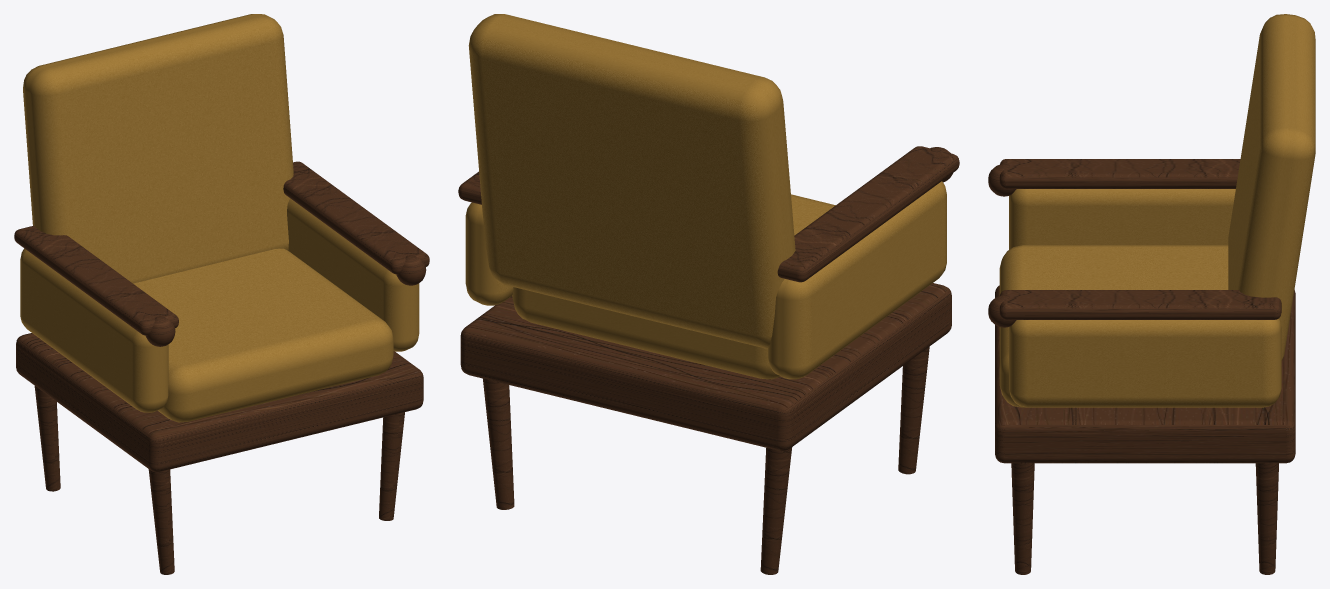
Rendered from poltrona-bergere-veludo-mostarda.glb.
3 renders of one model, left to right at view 1: azimuth 30°, elevation 25°; view 2: azimuth 150°, elevation 25°; view 3: azimuth 270°, elevation 25°, orthographic. The views are drawn at different scales.
Visible parts, largest first — view 1: armchair; view 2: armchair; view 3: armchair.
Part boxes in pixels (x1=…): armchair: x1=14, y1=14, x2=429, y2=574; armchair: x1=458, y1=14, x2=959, y2=574; armchair: x1=988, y1=14, x2=1315, y2=574.
Size of the model in its own units: 0.76 by 1.04 by 0.697.
2 materials, 2 textured.
